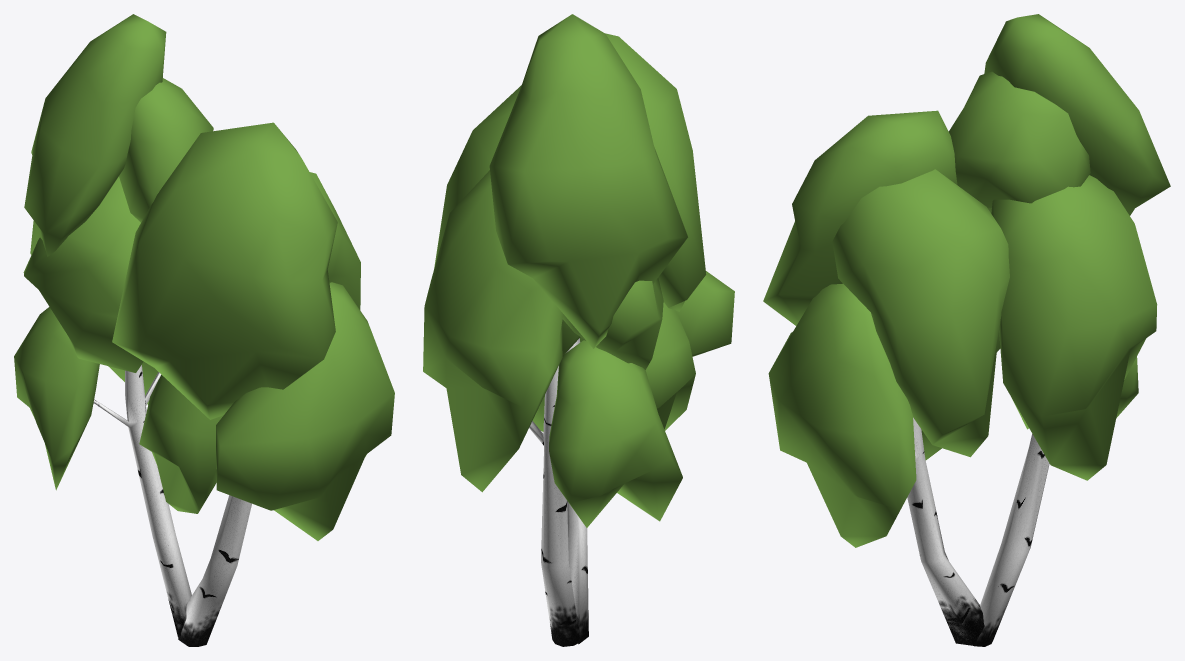
File: Birch01.fbx
3 views of the same model, side by side, from view 1: azimuth 30°, elevation 25°; view 2: azimuth 150°, elevation 25°; view 3: azimuth 270°, elevation 25° (orthographic). The views are drawn at different scales.
Visible parts, largest first — view 1: Birch01_Leaves, Birch01_Trunk; view 2: Birch01_Leaves, Birch01_Trunk; view 3: Birch01_Leaves, Birch01_Trunk.
Part boxes in pixels (bbox=[...]): Birch01_Leaves: bbox=[14, 14, 394, 540]; Birch01_Trunk: bbox=[93, 365, 251, 646]; Birch01_Leaves: bbox=[423, 14, 734, 527]; Birch01_Trunk: bbox=[529, 338, 588, 646]; Birch01_Leaves: bbox=[763, 14, 1170, 547]; Birch01_Trunk: bbox=[907, 417, 1049, 646].
Size of the model in its own units: 4.67 by 9.39 by 5.67.
